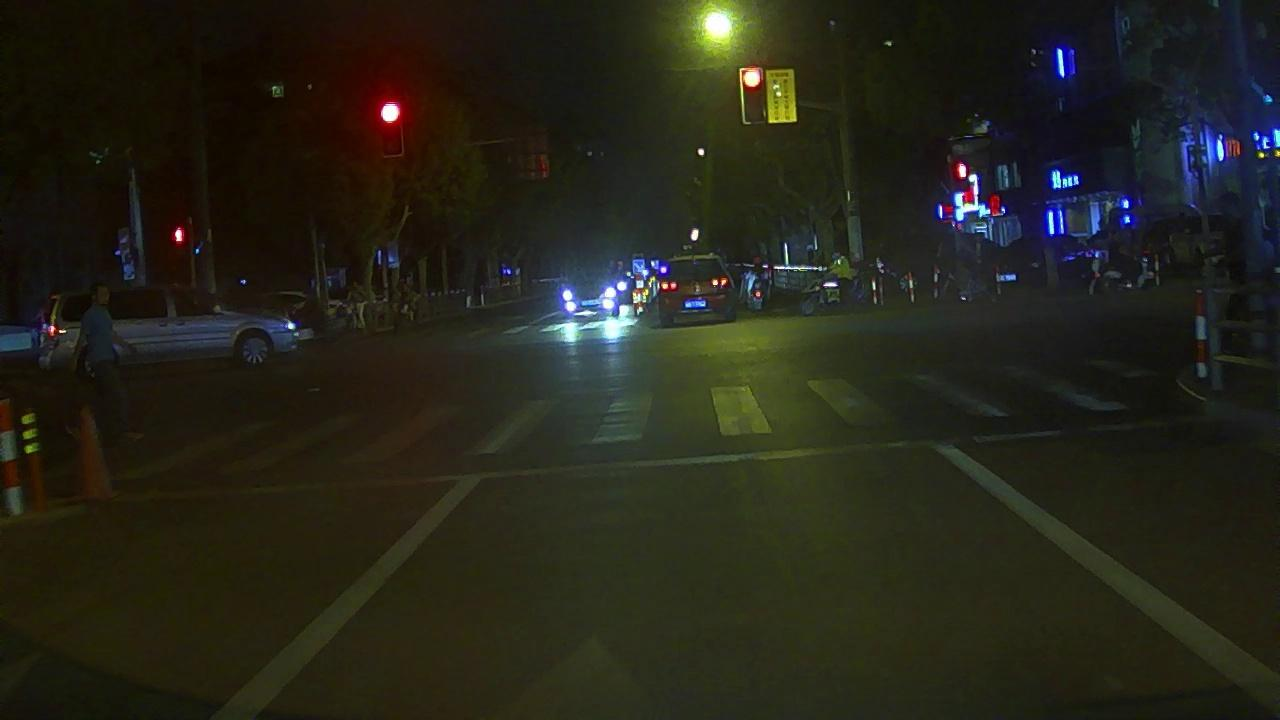traffic_light: (739, 68, 765, 122), (373, 98, 405, 127)
